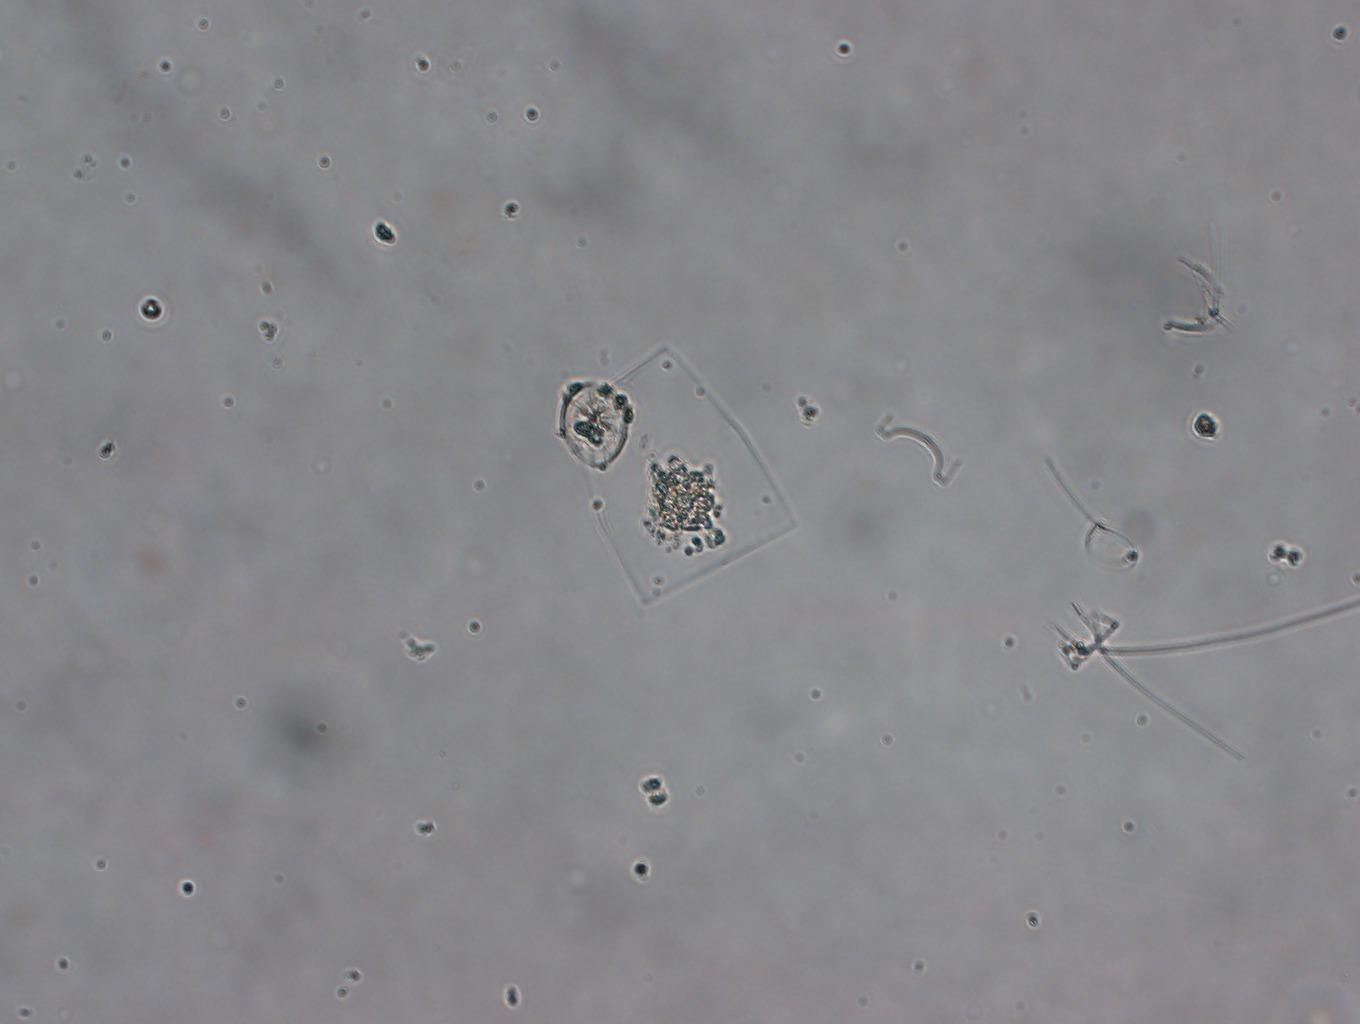helicotheca: (553, 342, 799, 605)
